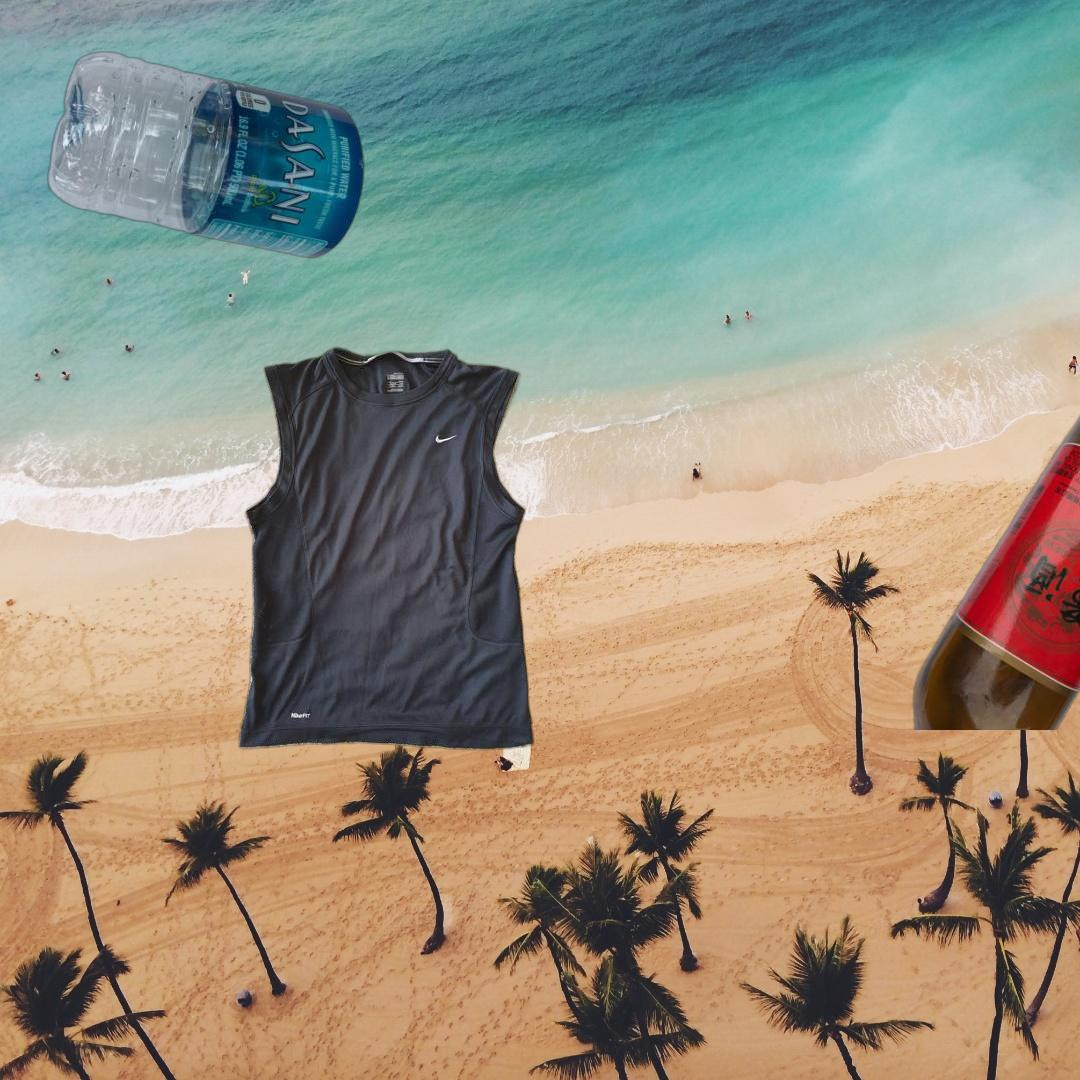clothes: (237, 344, 537, 754)
glass: (910, 346, 1080, 730)
plastic-bottles: (44, 48, 368, 261)
